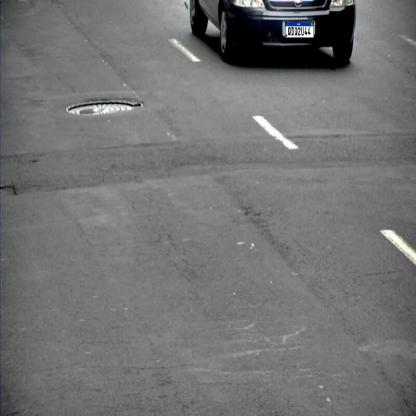PlacaM: (285, 22, 314, 38)
